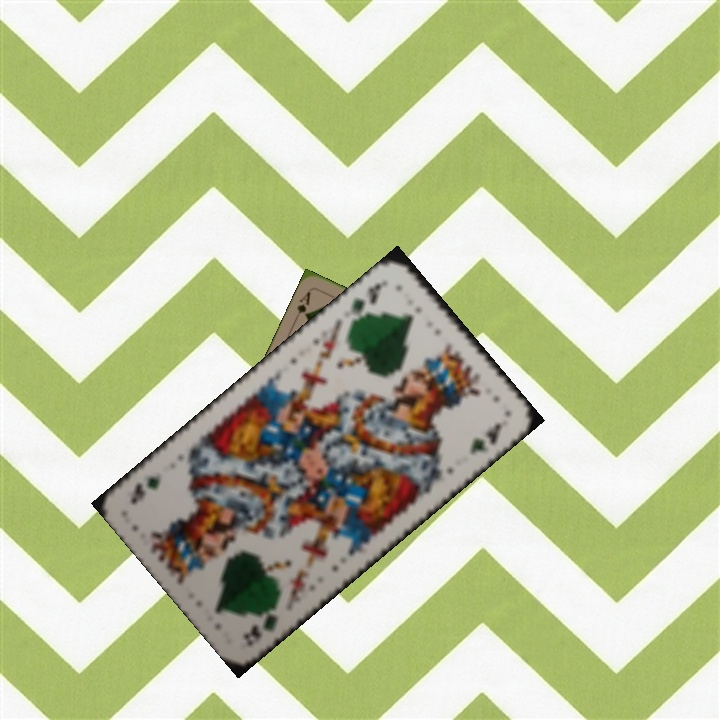GA: (290, 288, 313, 325)
GK: (238, 597, 283, 649), (345, 274, 390, 324)
